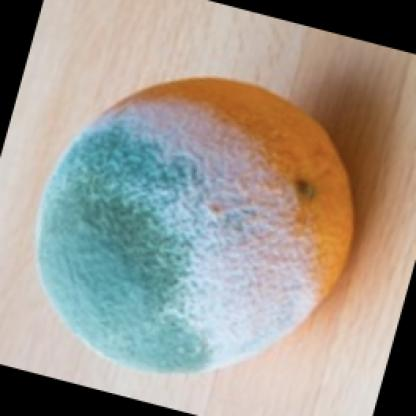rotten: (38, 80, 355, 376)
